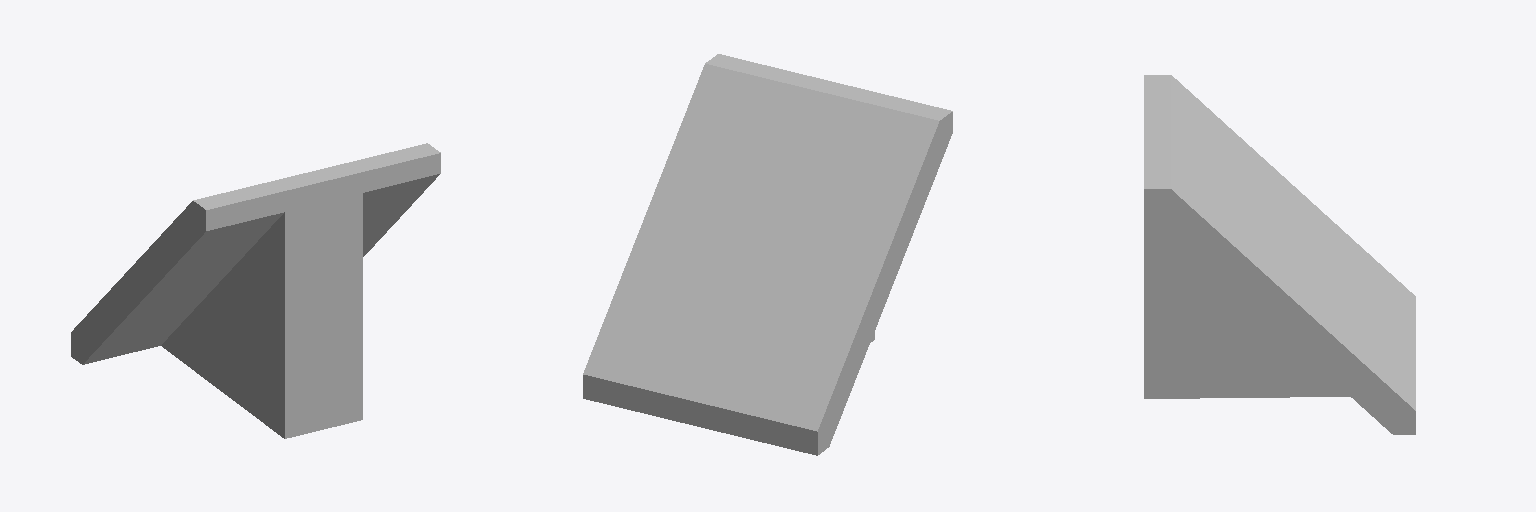
File: roofWall.obj
3 renders of one model, left to right at view 1: azimuth 30°, elevation 25°; view 2: azimuth 150°, elevation 25°; view 3: azimuth 270°, elevation 25°, orthographic.
Parts seen in each view (by area): view 1: Cube_Cube.001; view 2: Cube_Cube.001; view 3: Cube_Cube.001.
Part boxes in pixels (bbox=[...]): Cube_Cube.001: bbox=[71, 143, 440, 438]; Cube_Cube.001: bbox=[583, 54, 952, 455]; Cube_Cube.001: bbox=[1144, 75, 1415, 434].
Bounding box in the file's own units: 1 × 1.01 × 1.